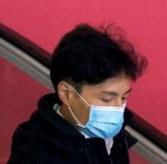OK: (78, 80, 130, 140)
